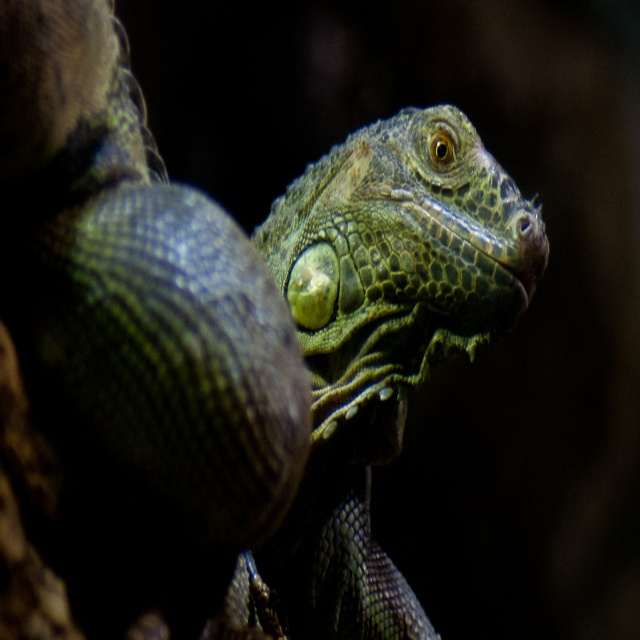Lizard: (245, 91, 562, 468)
